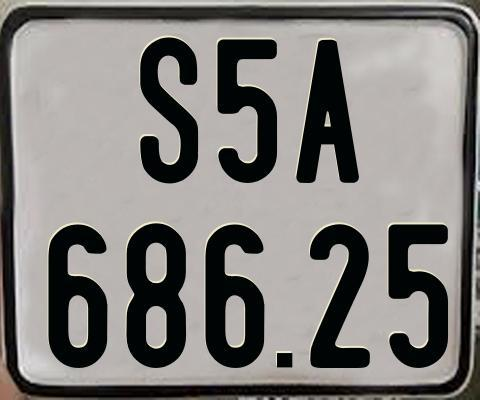2: (308, 223, 372, 369)
5: (388, 223, 454, 369), (217, 38, 277, 185)
6: (46, 221, 108, 368), (204, 223, 265, 370)
8: (124, 221, 184, 370)
A: (294, 39, 362, 188)
S: (138, 35, 200, 182)
